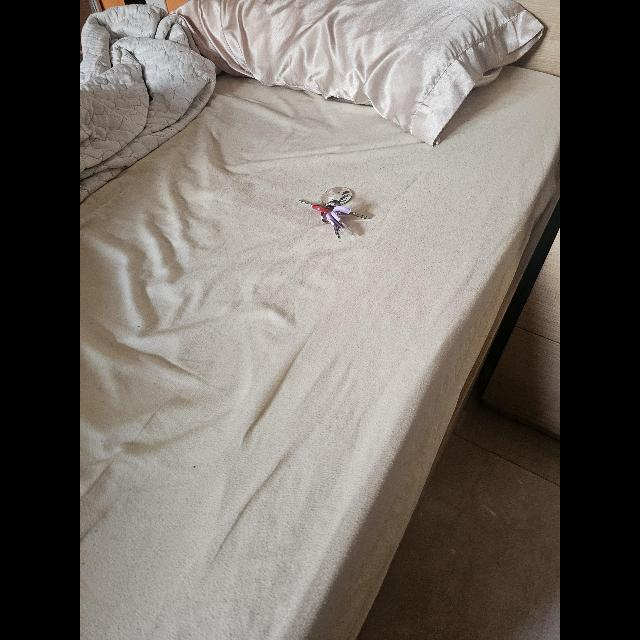Keys: (298, 186, 372, 240)
